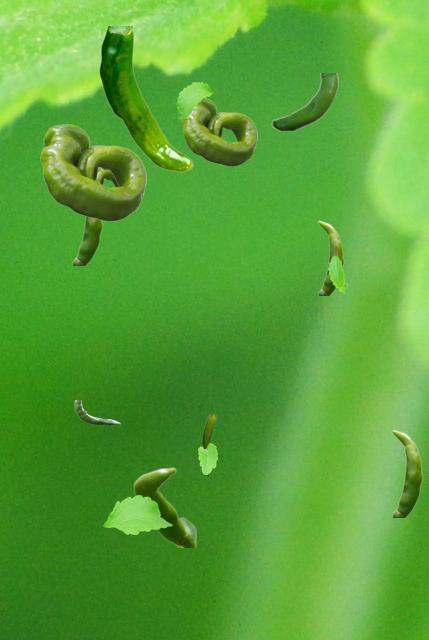green_chili: (99, 26, 192, 171), (40, 124, 145, 220), (181, 98, 256, 165), (133, 467, 195, 546), (271, 73, 337, 131), (391, 429, 422, 516), (317, 220, 343, 294), (71, 217, 102, 264), (74, 400, 119, 424), (202, 414, 215, 476), (97, 168, 116, 185)
